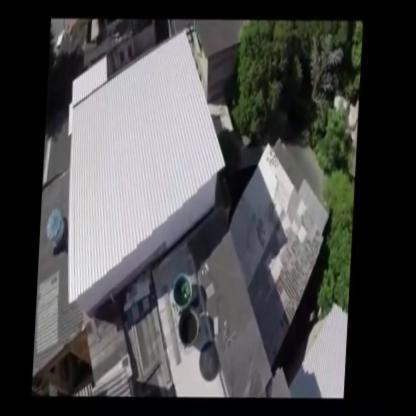agua: (174, 272, 206, 349)
